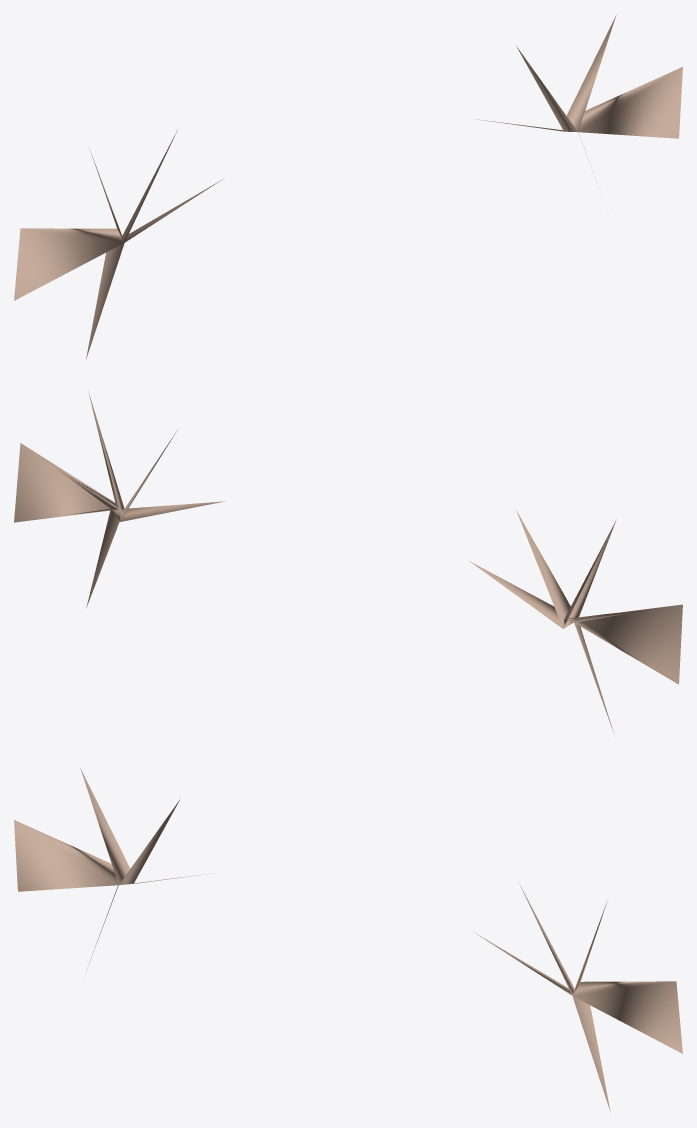
File: m_jet_6e455982.glb
3 renders of one model, top to bottom at view 1: azimuth 30°, elevation 25°; view 2: azimuth 150°, elevation 25°; view 3: azimuth 330°, elevation 25°, orthographic.
Parts seen in each view (by area): view 1: mesh; view 2: mesh; view 3: mesh.
Part boxes in pixels (x1=…): mesh: x1=14, y1=15, x2=682, y2=359; mesh: x1=14, y1=391, x2=682, y2=732; mesh: x1=14, y1=768, x2=682, y2=1111.
Size of the model in its own units: 2648 by 833 by 71.
